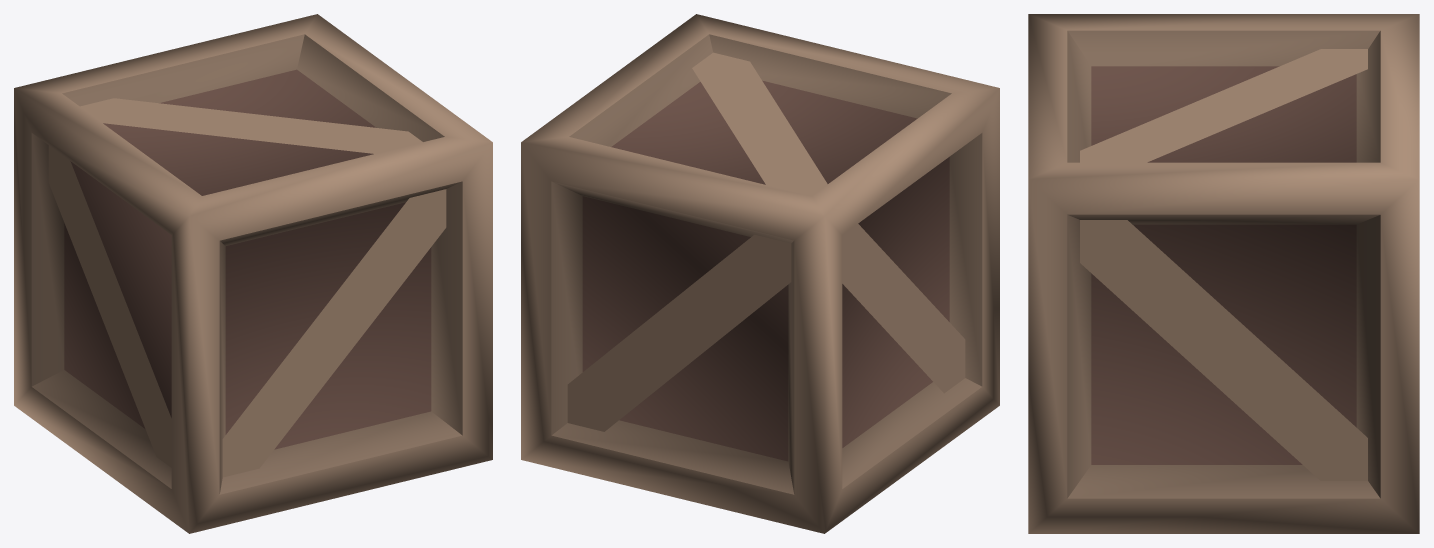
File: Wooden_Box.fbx
3 renders of one model, left to right at view 1: azimuth 30°, elevation 25°; view 2: azimuth 150°, elevation 25°; view 3: azimuth 270°, elevation 25°, orthographic. The views are drawn at different scales.
Visible parts, largest first — view 1: Cube; view 2: Cube; view 3: Cube.
Boxes of the visible parts, x1=… form: Cube: x1=14, y1=14, x2=492, y2=533; Cube: x1=521, y1=14, x2=999, y2=533; Cube: x1=1028, y1=14, x2=1419, y2=533.
Size of the model in its own units: 109 by 109 by 109.
